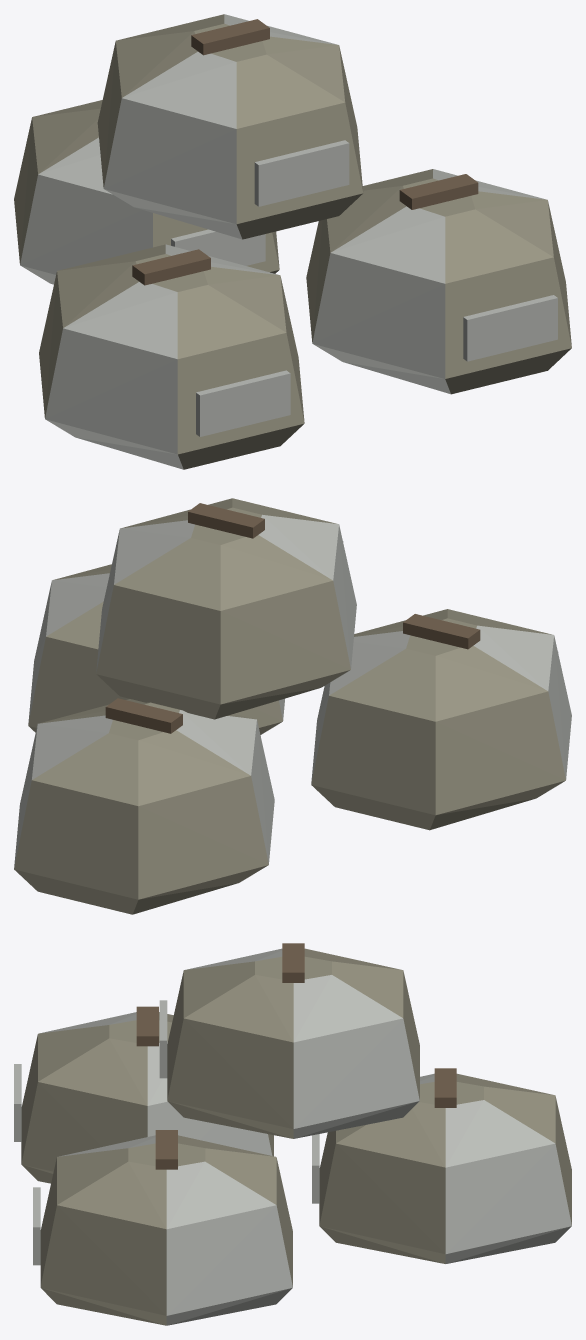
Rendered from flour_sack_pile.glb.
3 renders of one model, top to bottom at view 1: azimuth 30°, elevation 25°; view 2: azimuth 150°, elevation 25°; view 3: azimuth 270°, elevation 25°, orthographic. The views are drawn at different scales.
Parts seen in each view (by area): view 1: flour_sack_pile; view 2: flour_sack_pile; view 3: flour_sack_pile.
Boxes of the visible parts, left/top/right/bottom form: flour_sack_pile: left=14, top=14, right=571, bottom=469; flour_sack_pile: left=14, top=498, right=571, bottom=914; flour_sack_pile: left=14, top=943, right=571, bottom=1325.
Bounding box in the file's own units: 1.92 × 1 × 1.92.
